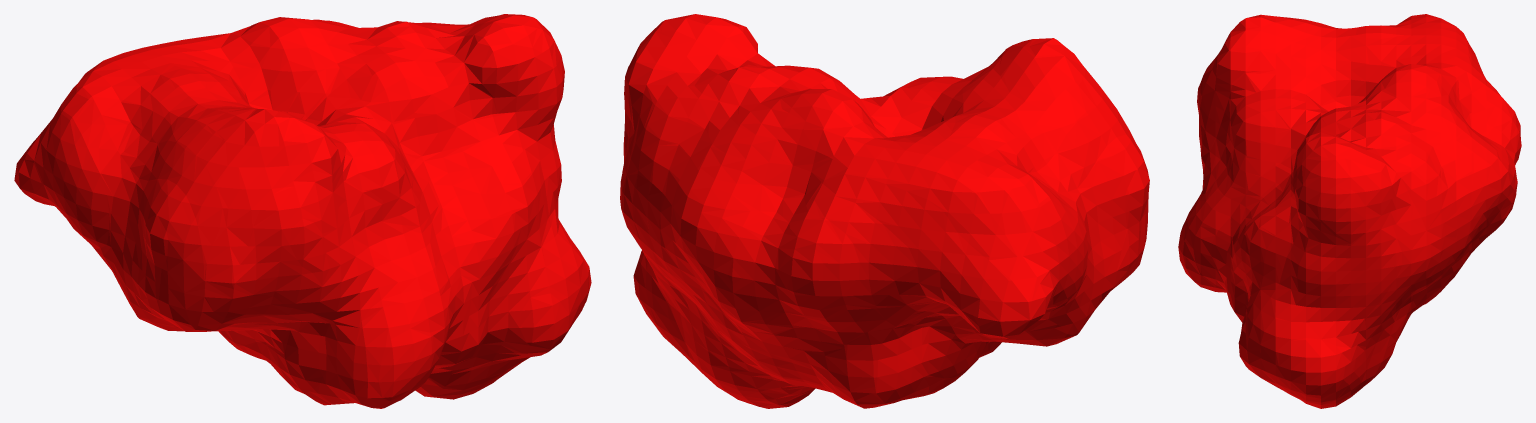
The model's file is livG_coarse.dae.
3 views of the same model, side by side, from view 1: azimuth 30°, elevation 25°; view 2: azimuth 150°, elevation 25°; view 3: azimuth 270°, elevation 25° (orthographic). The views are drawn at different scales.
Visible parts, largest first — view 1: livG; view 2: livG; view 3: livG.
Boxes of the visible parts, box(x1,y1,x2,y2) form: livG: box(14, 14, 591, 408); livG: box(620, 14, 1149, 408); livG: box(1178, 14, 1521, 408).
Size of the model in its own units: 60.62 by 44.94 by 47.2.
